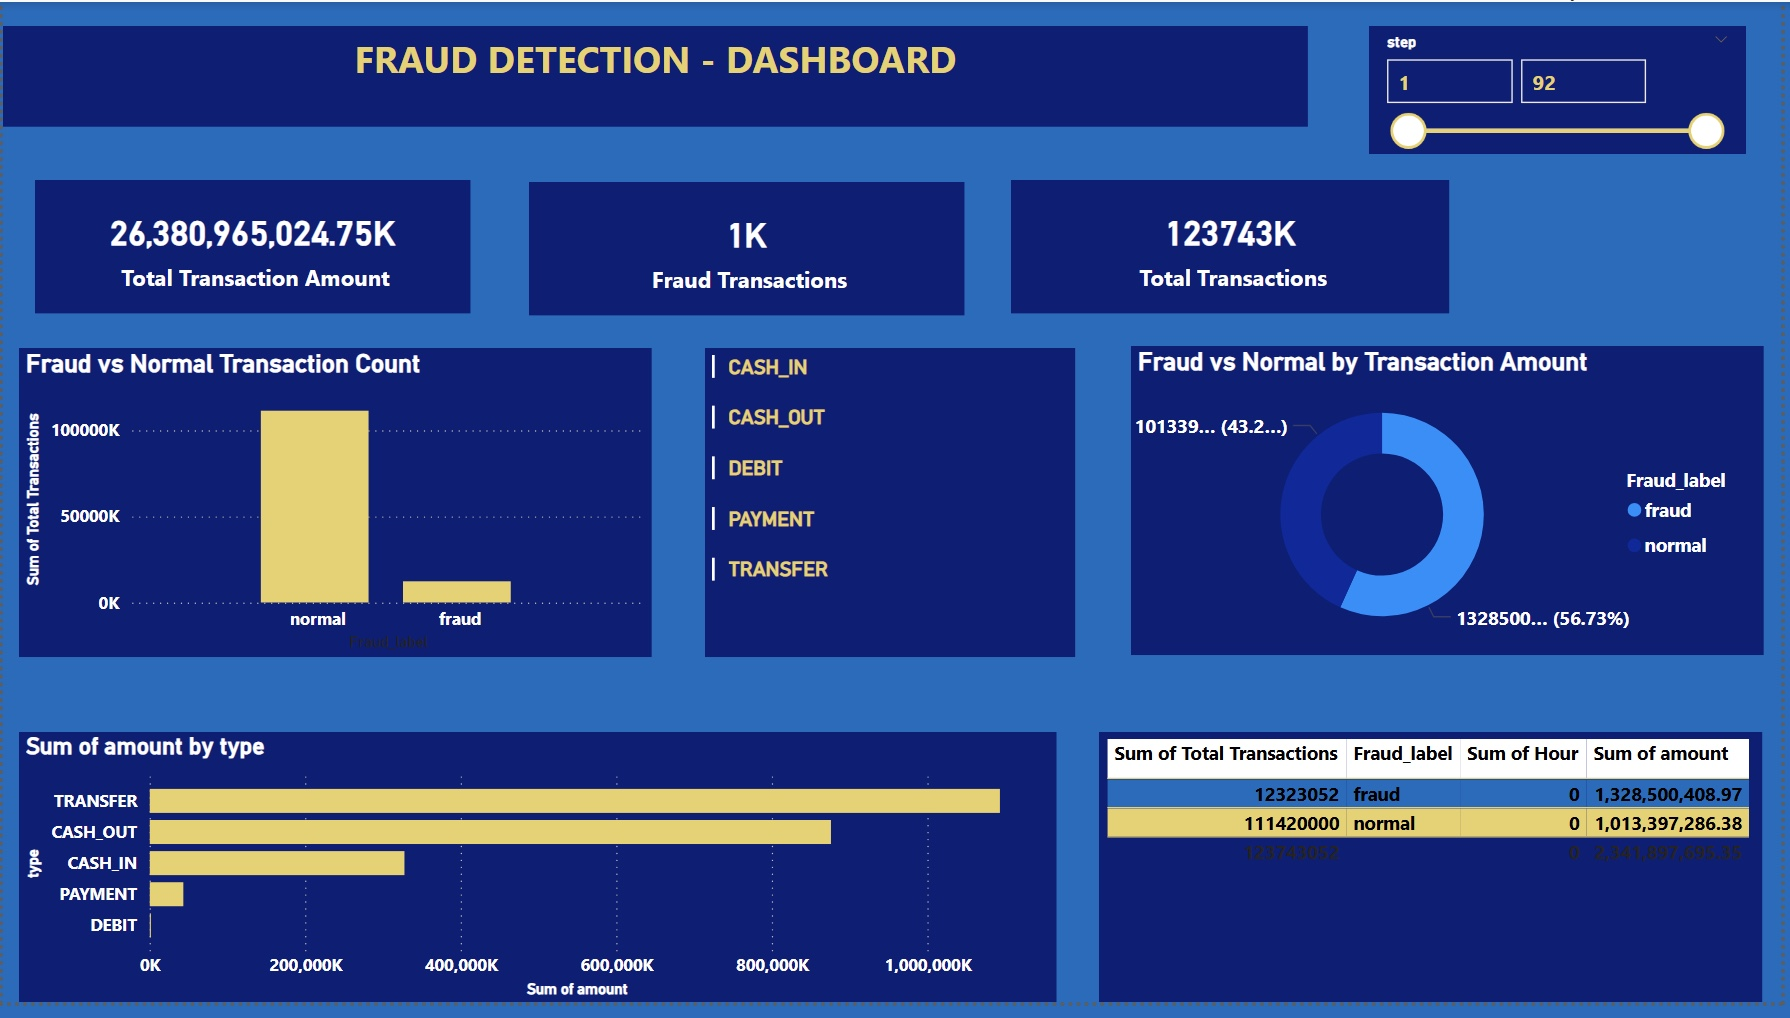

The dashboard page shown, as its layout file describes it:
{"tool":"powerbi","page":{"name":"Page 1","canvas":[1280,720],"ordinal":0},"visuals":[{"type":"card","fields":{"Values":["Sum(in.Total Transaction Amount)"]},"box":[23.6,127.7,313.7,96.2],"z":0},{"type":"card","fields":{"Values":["Sum(in.Fraud Transactions)"]},"box":[378.3,129.3,313.7,96.2],"z":1000},{"type":"card","fields":{"Values":["Sum(in.Total Transactions)"]},"box":[725.1,127.7,315.3,96.2],"z":2000},{"type":"clusteredColumnChart","title":"Fraud vs Normal Transaction Count ","fields":{"Category":["in.Fraud_label"],"Y":["Sum(in.Total Transactions)"]},"box":[11,249.1,455.6,222.3],"z":3000},{"type":"donutChart","title":"Fraud vs Normal by Transaction Amount","fields":{"Category":["in.Fraud_label"],"Y":["Sum(in.amount)"]},"box":[811.8,247.5,455.6,222.3],"z":4000},{"type":"tableEx","fields":{"Values":["Sum(in.Total Transactions)","in.Fraud_label","Sum(in.Hour)","Sum(in.amount)"]},"box":[789.8,524.9,477.6,195.5],"z":5000},{"type":"textbox","box":[0,17.3,939.5,72.5],"z":6000},{"type":"slicer","fields":{"Values":["in.step"]},"box":[983.6,17.3,271.1,91.4],"z":7000},{"type":"multiRowCard","fields":{"Values":["in.type"]},"box":[506,249.1,266.4,222.3],"z":8000},{"type":"clusteredBarChart","fields":{"Y":["Sum(in.amount)"],"Category":["in.type"]},"box":[11,524.9,747.2,195.5],"z":9000}]}

Visuals, with their boxes in screenshot pixels (x1, y1, x2, y2), scaled from the page's 1280x720 canvas onto the 1790x1018 screenshot:
card - Sum(in.Total Transaction Amount): [33, 181, 472, 317]
card - Sum(in.Fraud Transactions): [529, 183, 968, 319]
card - Sum(in.Total Transactions): [1014, 181, 1455, 317]
"Fraud vs Normal Transaction Count " clusteredColumnChart: [15, 352, 653, 667]
"Fraud vs Normal by Transaction Amount" donutChart: [1135, 350, 1772, 664]
tableEx - Sum(in.Total Transactions) x in.Fraud_label: [1104, 742, 1772, 1017]
textbox: [0, 24, 1314, 127]
slicer - in.step: [1376, 24, 1755, 154]
multiRowCard - in.type: [708, 352, 1080, 667]
clusteredBarChart - Sum(in.amount) x in.type: [15, 742, 1060, 1017]
